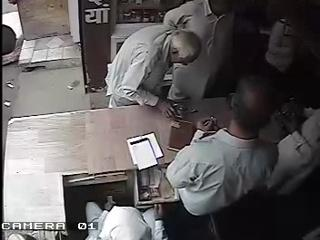Normal: (164, 76, 319, 240), (162, 0, 277, 104), (104, 20, 202, 114)
